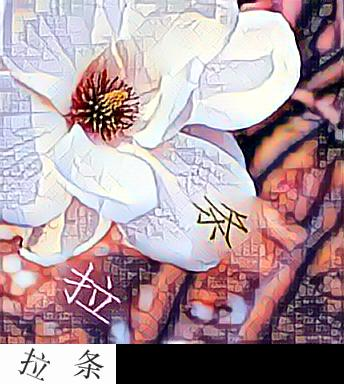character: (61, 257, 122, 331), (190, 192, 256, 257)
